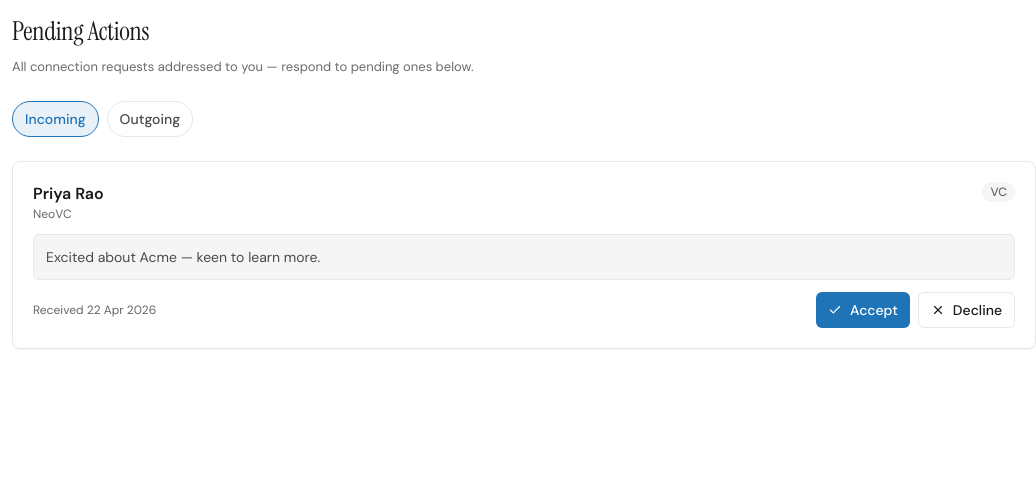
it: PendingConnectionsPage › switches to Outgoing tab via URL search param and HIDES Accept/Decline (status pill instead)
This screenshot has width=1036, height=498.
Click the tab with test id "direction-outgoing".
click(150, 118)  # box x1=107 y1=100 x2=193 y2=136
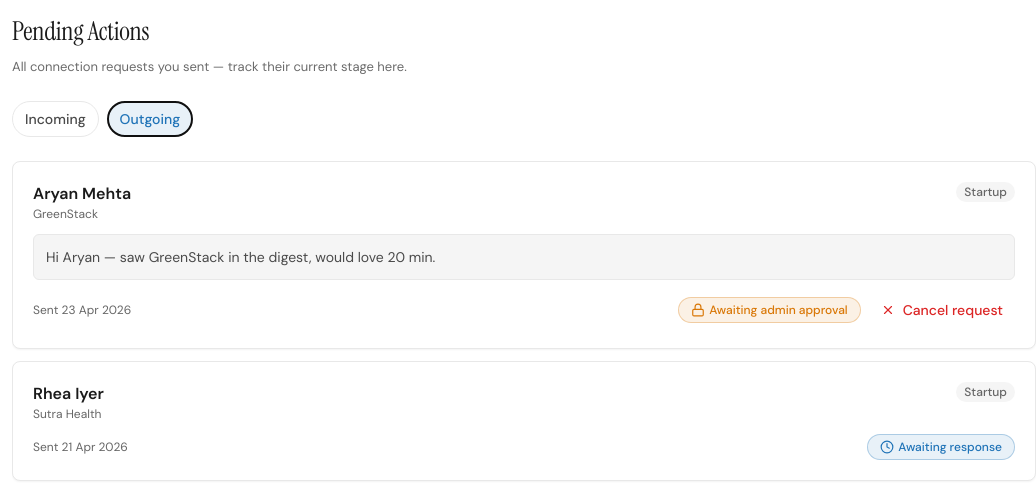
Check: the text "Aryan Mehta" is shown, box x1=33 y1=182 x2=131 y2=206
Check: the button "Accept" is gone
Check: the button "Decline" is gone
